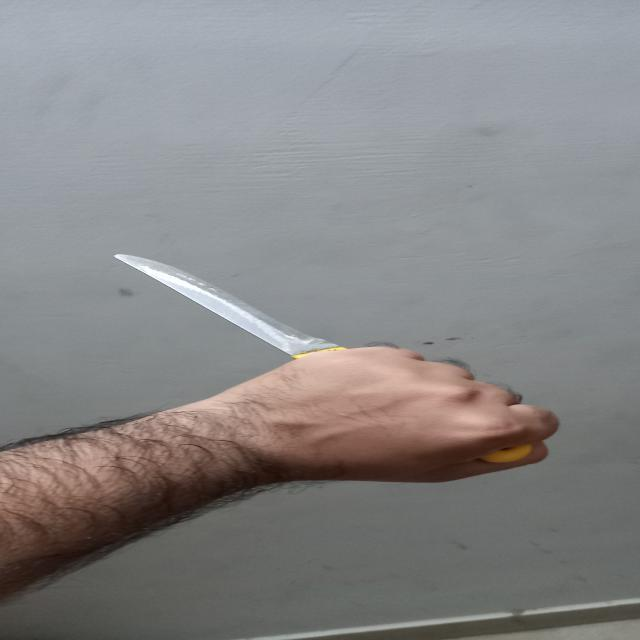Knife: (104, 248, 542, 461)
